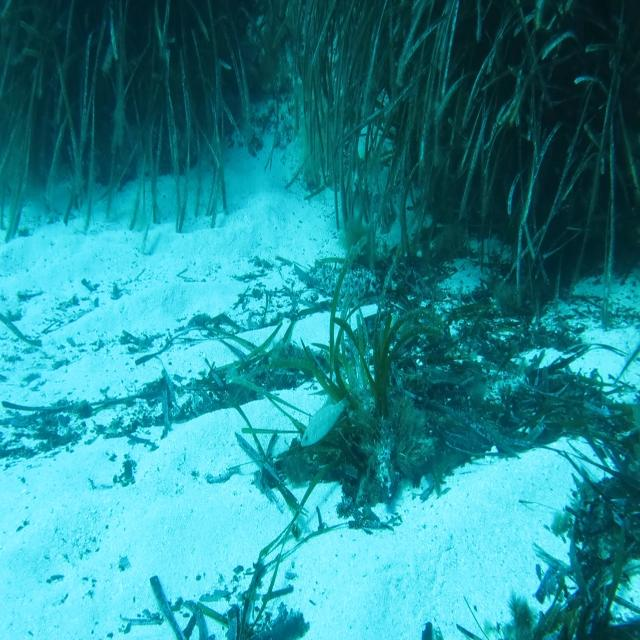SA: (301, 389, 352, 454)
vegetation: (286, 0, 639, 224), (0, 2, 265, 176), (200, 226, 458, 374), (459, 229, 628, 424), (551, 516, 640, 640)
